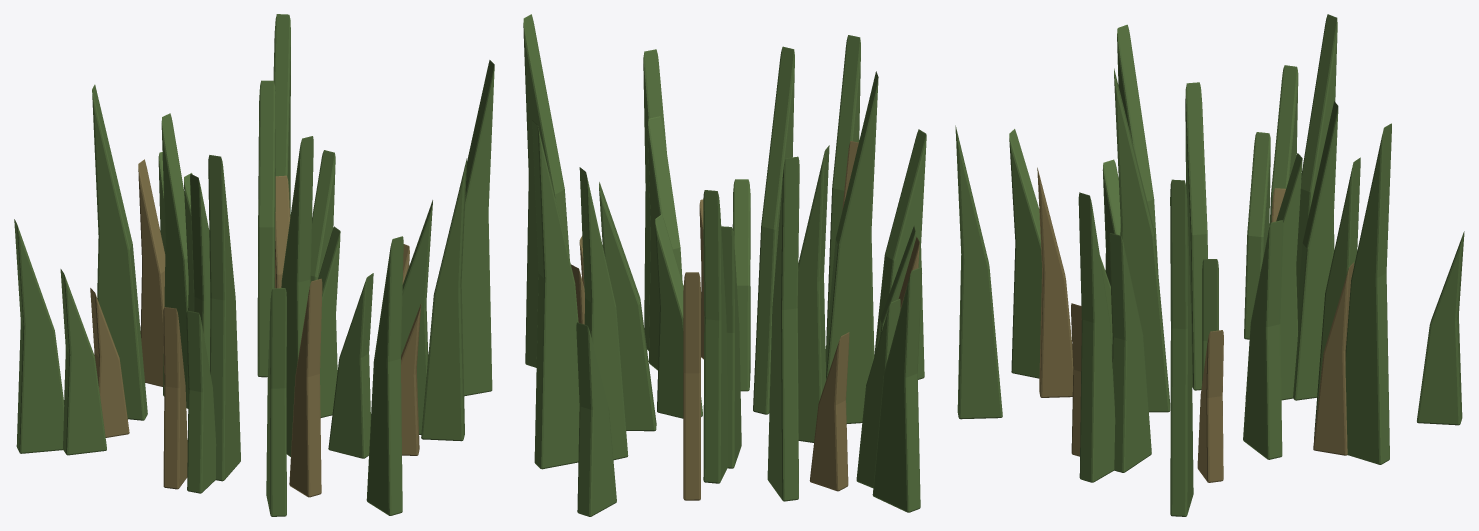
File: GroundPlant_GrassTall.fbx
3 views of the same model, side by side, from view 1: azimuth 30°, elevation 25°; view 2: azimuth 150°, elevation 25°; view 3: azimuth 270°, elevation 25° (orthographic). The views are drawn at different scales.
Parts seen in each view (by area): view 1: Grass tuft blade.067, Grass tuft blade.079, Grass tuft blade.071, Grass tuft blade.078, Grass tuft blade.074, Grass tuft blade.069, Grass tuft blade.075, Grass tuft dry blade.026, Grass tuft blade.076, Grass tuft blade.068, Grass tuft blade.062, Grass tuft dry blade.023 (+13 smaller); view 2: Grass tuft blade.063, Grass tuft blade.071, Grass tuft blade.067, Grass tuft blade.069, Grass tuft blade.066, Grass tuft blade.075, Grass tuft blade.070, Grass tuft blade.062, Grass tuft blade.079, Grass tuft blade.061, Grass tuft blade.064, Grass tuft blade.060 (+12 smaller); view 3: Grass tuft blade.063, Grass tuft blade.078, Grass tuft blade.074, Grass tuft blade.075, Grass tuft blade.079, Grass tuft blade.061, Grass tuft blade.077, Grass tuft blade.066, Grass tuft blade.073, Grass tuft blade.064, Grass tuft dry blade.026, Grass tuft blade.070 (+11 smaller).
Part boxes in pixels (<box>): Grass tuft blade.067: <box>92,84,147,420</box>; Grass tuft blade.079: <box>461,60,494,396</box>; Grass tuft blade.071: <box>208,155,240,481</box>; Grass tuft blade.078: <box>421,158,466,441</box>; Grass tuft blade.074: <box>366,236,403,515</box>; Grass tuft blade.069: <box>14,219,64,453</box>; Grass tuft blade.075: <box>281,136,313,456</box>; Grass tuft dry blade.026: <box>289,278,322,497</box>; Grass tuft blade.076: <box>328,273,373,458</box>; Grass tuft blade.068: <box>60,269,106,455</box>; Grass tuft blade.062: <box>257,80,275,377</box>; Grass tuft dry blade.023: <box>138,159,165,386</box>; Grass tuft blade.063: <box>532,120,579,469</box>; Grass tuft blade.071: <box>825,71,878,423</box>; Grass tuft blade.067: <box>767,156,799,501</box>; Grass tuft blade.069: <box>872,267,921,512</box>; Grass tuft blade.066: <box>703,190,728,483</box>; Grass tuft blade.075: <box>753,46,794,414</box>; Grass tuft blade.070: <box>797,145,829,442</box>; Grass tuft blade.062: <box>579,167,628,459</box>; Grass tuft blade.079: <box>523,14,569,367</box>; Grass tuft blade.061: <box>599,182,656,431</box>; Grass tuft blade.064: <box>576,322,616,516</box>; Grass tuft blade.060: <box>655,214,702,418</box>; Grass tuft blade.063: <box>1345,123,1391,464</box>; Grass tuft blade.078: <box>1078,192,1115,482</box>; Grass tuft blade.074: <box>955,125,1002,419</box>; Grass tuft blade.075: <box>1114,68,1170,412</box>; Grass tuft blade.079: <box>1170,179,1193,516</box>; Grass tuft blade.061: <box>1243,220,1283,459</box>; Grass tuft blade.077: <box>1109,233,1151,472</box>; Grass tuft blade.066: <box>1293,101,1338,400</box>; Grass tuft blade.073: <box>1009,129,1041,378</box>; Grass tuft blade.064: <box>1417,231,1464,425</box>; Grass tuft dry blade.026: <box>1037,167,1073,397</box>; Grass tuft blade.070: <box>1185,82,1207,390</box>.
Size of the model in its own units: 1.48 by 1.08 by 1.48.
